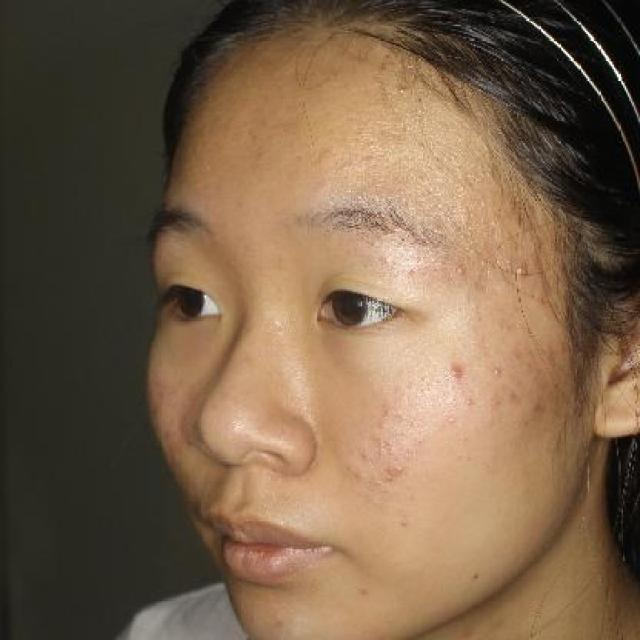nodules: (443, 356, 474, 390), (459, 388, 490, 412), (448, 259, 472, 285), (389, 80, 414, 102), (488, 360, 509, 382), (508, 260, 526, 278), (391, 460, 409, 477)
